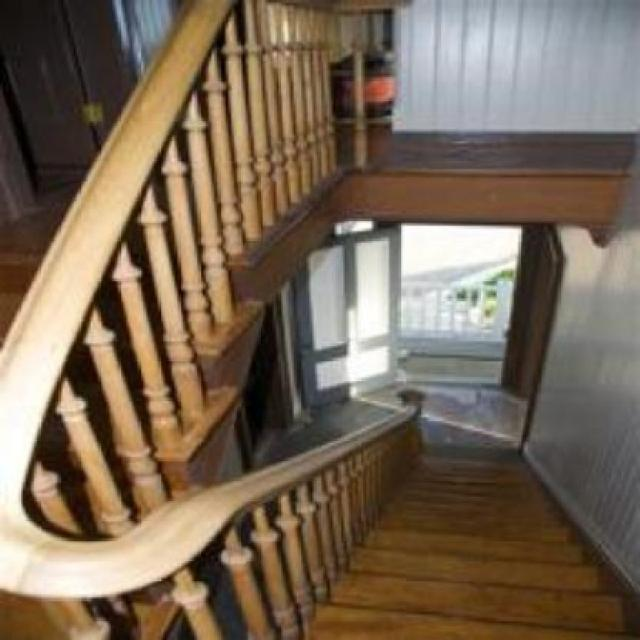stair: (300, 438, 640, 640)
